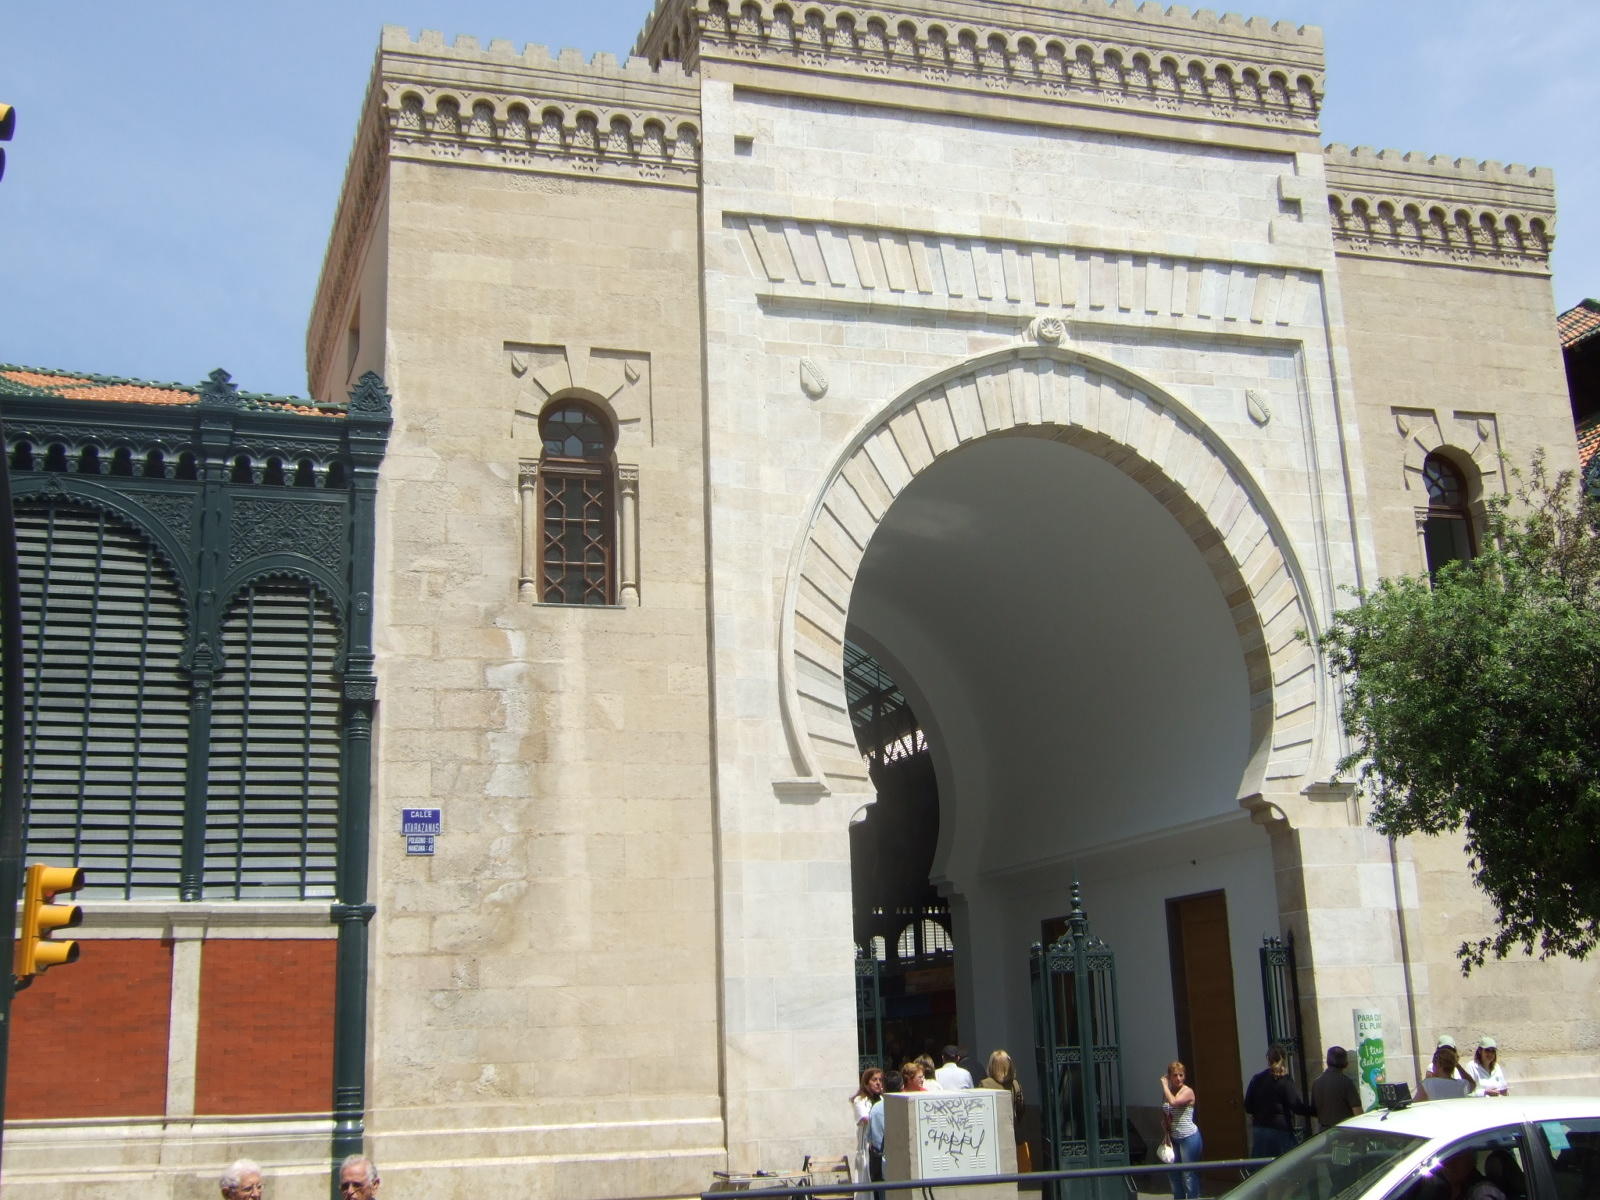arco-herradura: (771, 335, 1327, 843), (511, 345, 654, 480), (1393, 405, 1519, 516)
dintel-adovelado: (733, 211, 1313, 334)
